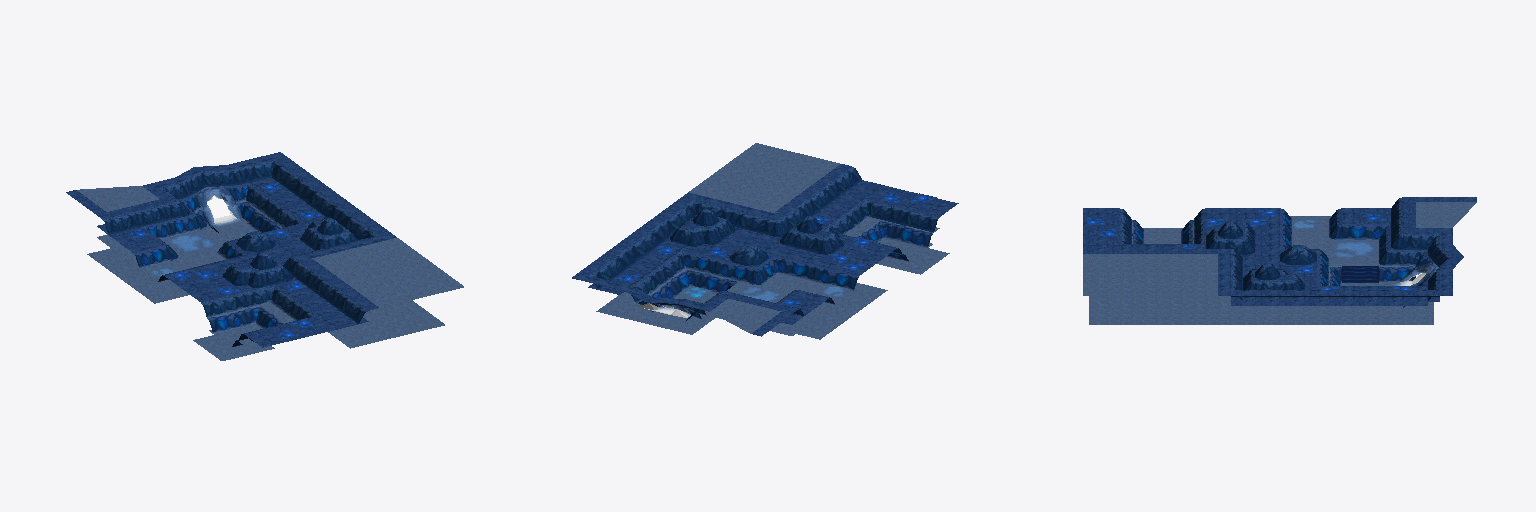
The picture shows the model from 3 angles: view 1: azimuth 30°, elevation 25°; view 2: azimuth 150°, elevation 25°; view 3: azimuth 270°, elevation 25°; orthographic projection.
Visible parts, largest first — view 1: polygon1, polygon0, polygon8, polygon9, polygon6, polygon14, polygon7, polygon3, polygon12, polygon5, polygon4; view 2: polygon1, polygon0, polygon8, polygon6, polygon7, polygon14, polygon9, polygon3, polygon12; view 3: polygon1, polygon0, polygon8, polygon6, polygon14, polygon7, polygon12, polygon9, polygon3, polygon2.
Part boxes in pixels (x1,y1,x2,y2): polygon1: (77, 186, 463, 360); polygon0: (66, 152, 396, 347); polygon8: (102, 159, 379, 340); polygon9: (186, 183, 317, 320); polygon6: (133, 183, 303, 281); polygon14: (123, 181, 323, 340); polygon7: (195, 201, 284, 346); polygon3: (177, 201, 357, 287); polygon12: (148, 230, 219, 278); polygon5: (196, 186, 241, 224); polygon4: (207, 196, 243, 228); polygon1: (596, 143, 949, 339); polygon0: (572, 164, 958, 336); polygon8: (589, 167, 939, 315); polygon6: (677, 250, 858, 315); polygon7: (638, 220, 932, 320); polygon14: (613, 192, 936, 307); polygon9: (631, 199, 902, 315); polygon3: (670, 210, 844, 291); polygon12: (739, 284, 850, 302); polygon1: (1083, 202, 1476, 324); polygon0: (1083, 197, 1476, 305); polygon8: (1120, 197, 1451, 300); polygon6: (1280, 208, 1432, 285); polygon14: (1084, 209, 1413, 289); polygon7: (1132, 220, 1415, 307); polygon12: (1292, 219, 1375, 257); polygon9: (1122, 208, 1426, 265); polygon3: (1206, 222, 1402, 289); polygon2: (1342, 266, 1378, 282).
Size of the model in its own units: 5.19 by 1.12 by 8.
Materials: 15 (15 with a texture image).